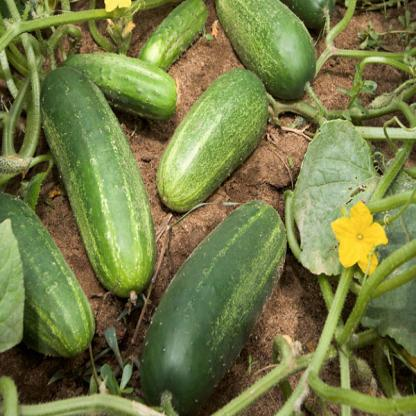--: (131, 197, 295, 416), (28, 53, 153, 302), (140, 67, 271, 219)
